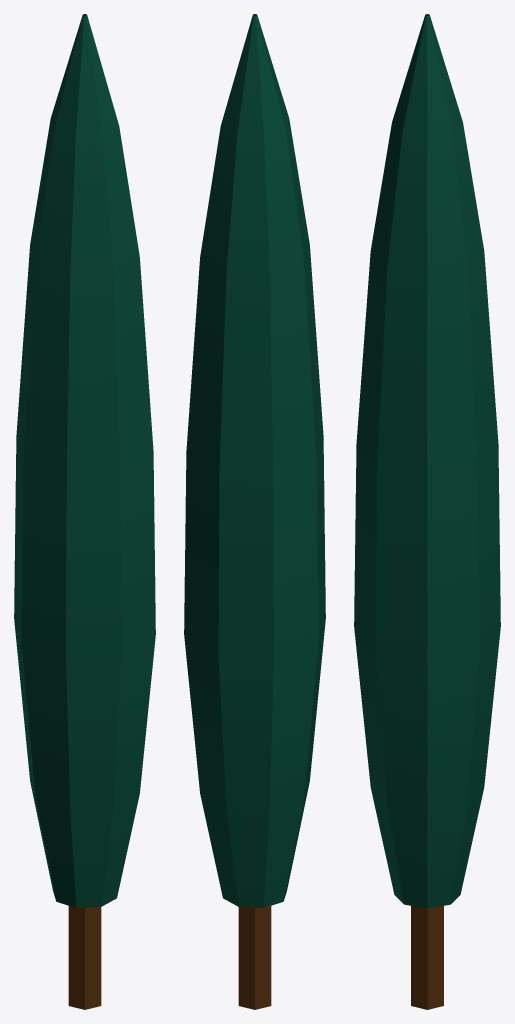
Rendered from tree_cypress.glb.
The picture shows the model from 3 angles, left to right: view 1: azimuth 30°, elevation 25°; view 2: azimuth 150°, elevation 25°; view 3: azimuth 270°, elevation 25°; orthographic projection.
Visible parts, largest first — view 1: Tree_Italian_Cypress; view 2: Tree_Italian_Cypress; view 3: Tree_Italian_Cypress.
Boxes of the visible parts, <box> form: Tree_Italian_Cypress: <box>14,14,155,1009</box>; Tree_Italian_Cypress: <box>184,14,325,1009</box>; Tree_Italian_Cypress: <box>354,14,500,1009</box>.
Size of the model in its own units: 1.24 by 9.2 by 1.24.
